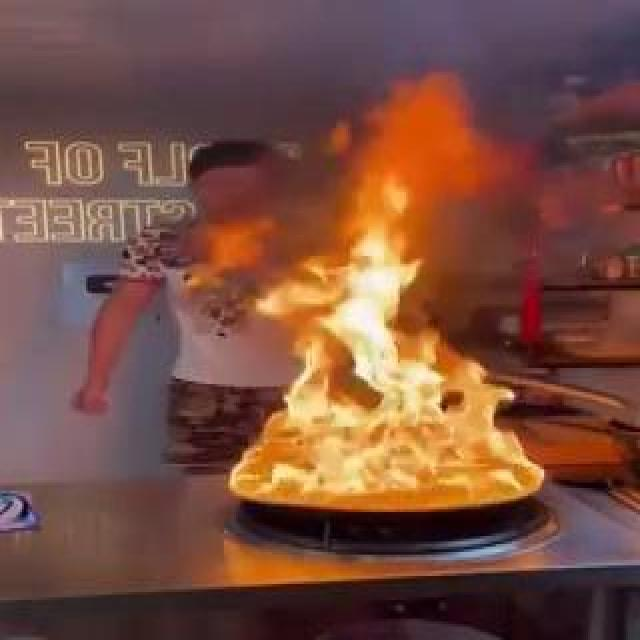Fire: (226, 140, 584, 519)
